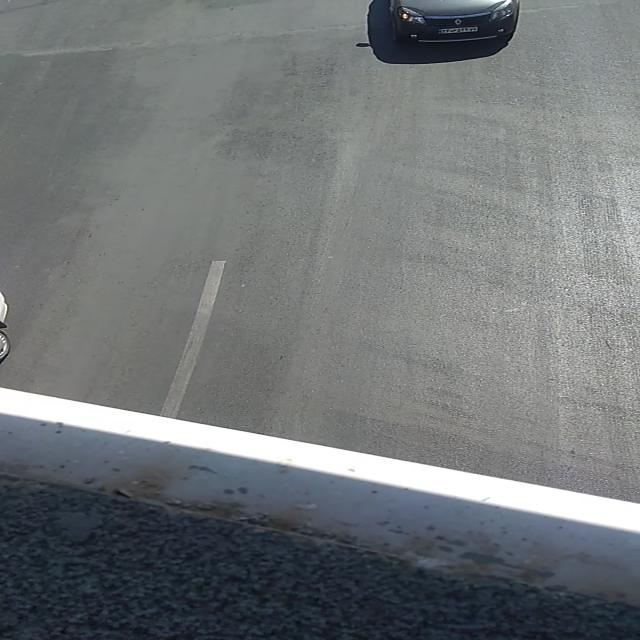car: (387, 3, 519, 49)
